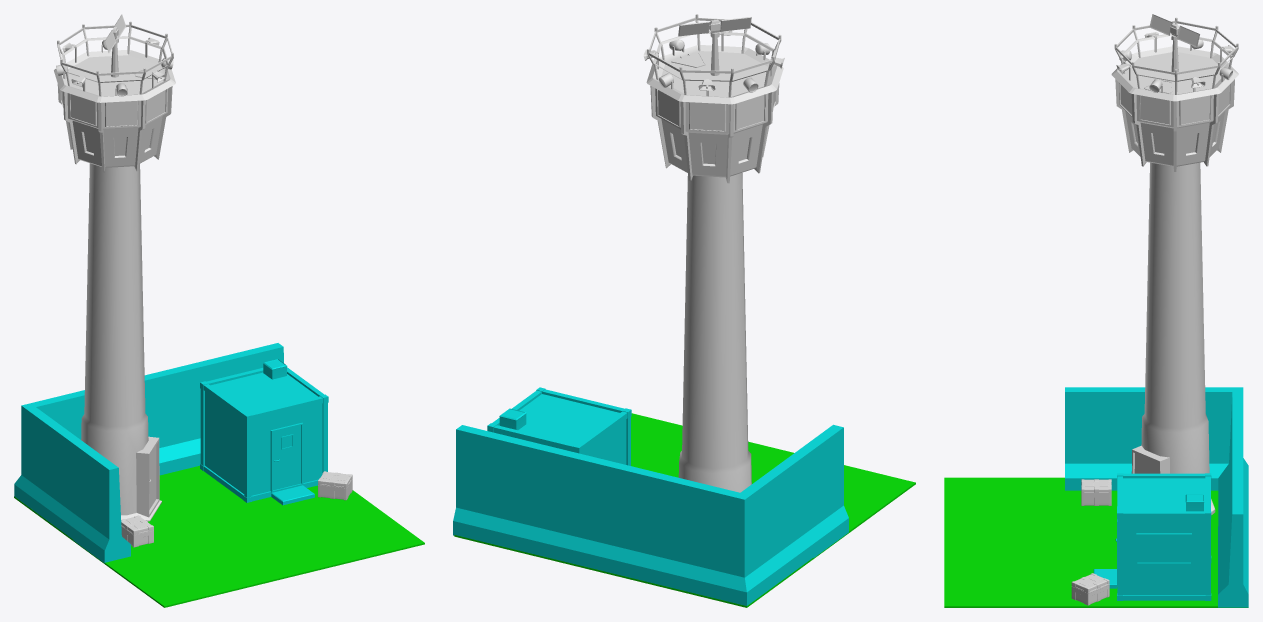
File: Outpost Modelling v2.fbx
The picture shows the model from 3 angles, left to right: view 1: azimuth 30°, elevation 25°; view 2: azimuth 150°, elevation 25°; view 3: azimuth 270°, elevation 25°; orthographic projection. The views are drawn at different scales.
Parts seen in each view (by area): view 1: OutpostHigh; view 2: OutpostHigh; view 3: OutpostHigh.
Boxes of the visible parts, x1=… form: OutpostHigh: x1=14, y1=14, x2=424, y2=607; OutpostHigh: x1=453, y1=14, x2=915, y2=607; OutpostHigh: x1=944, y1=14, x2=1248, y2=607.
Bounding box in the file's own units: 3.99 × 7 × 3.97.
